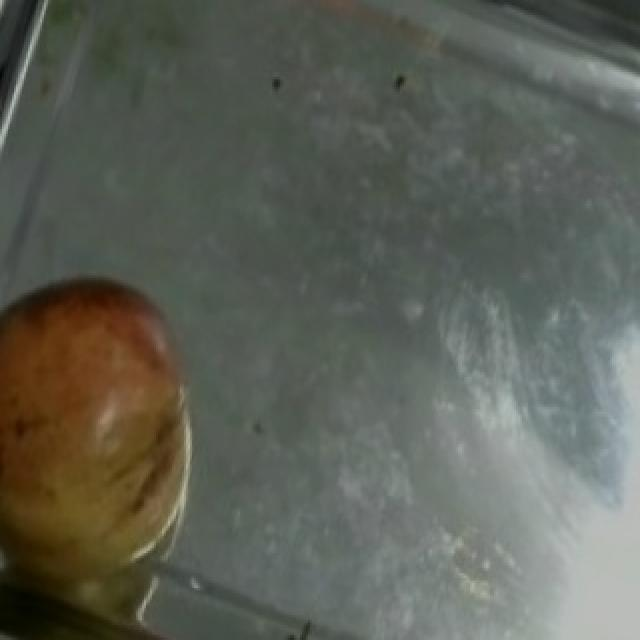fruit: (0, 248, 218, 486)
